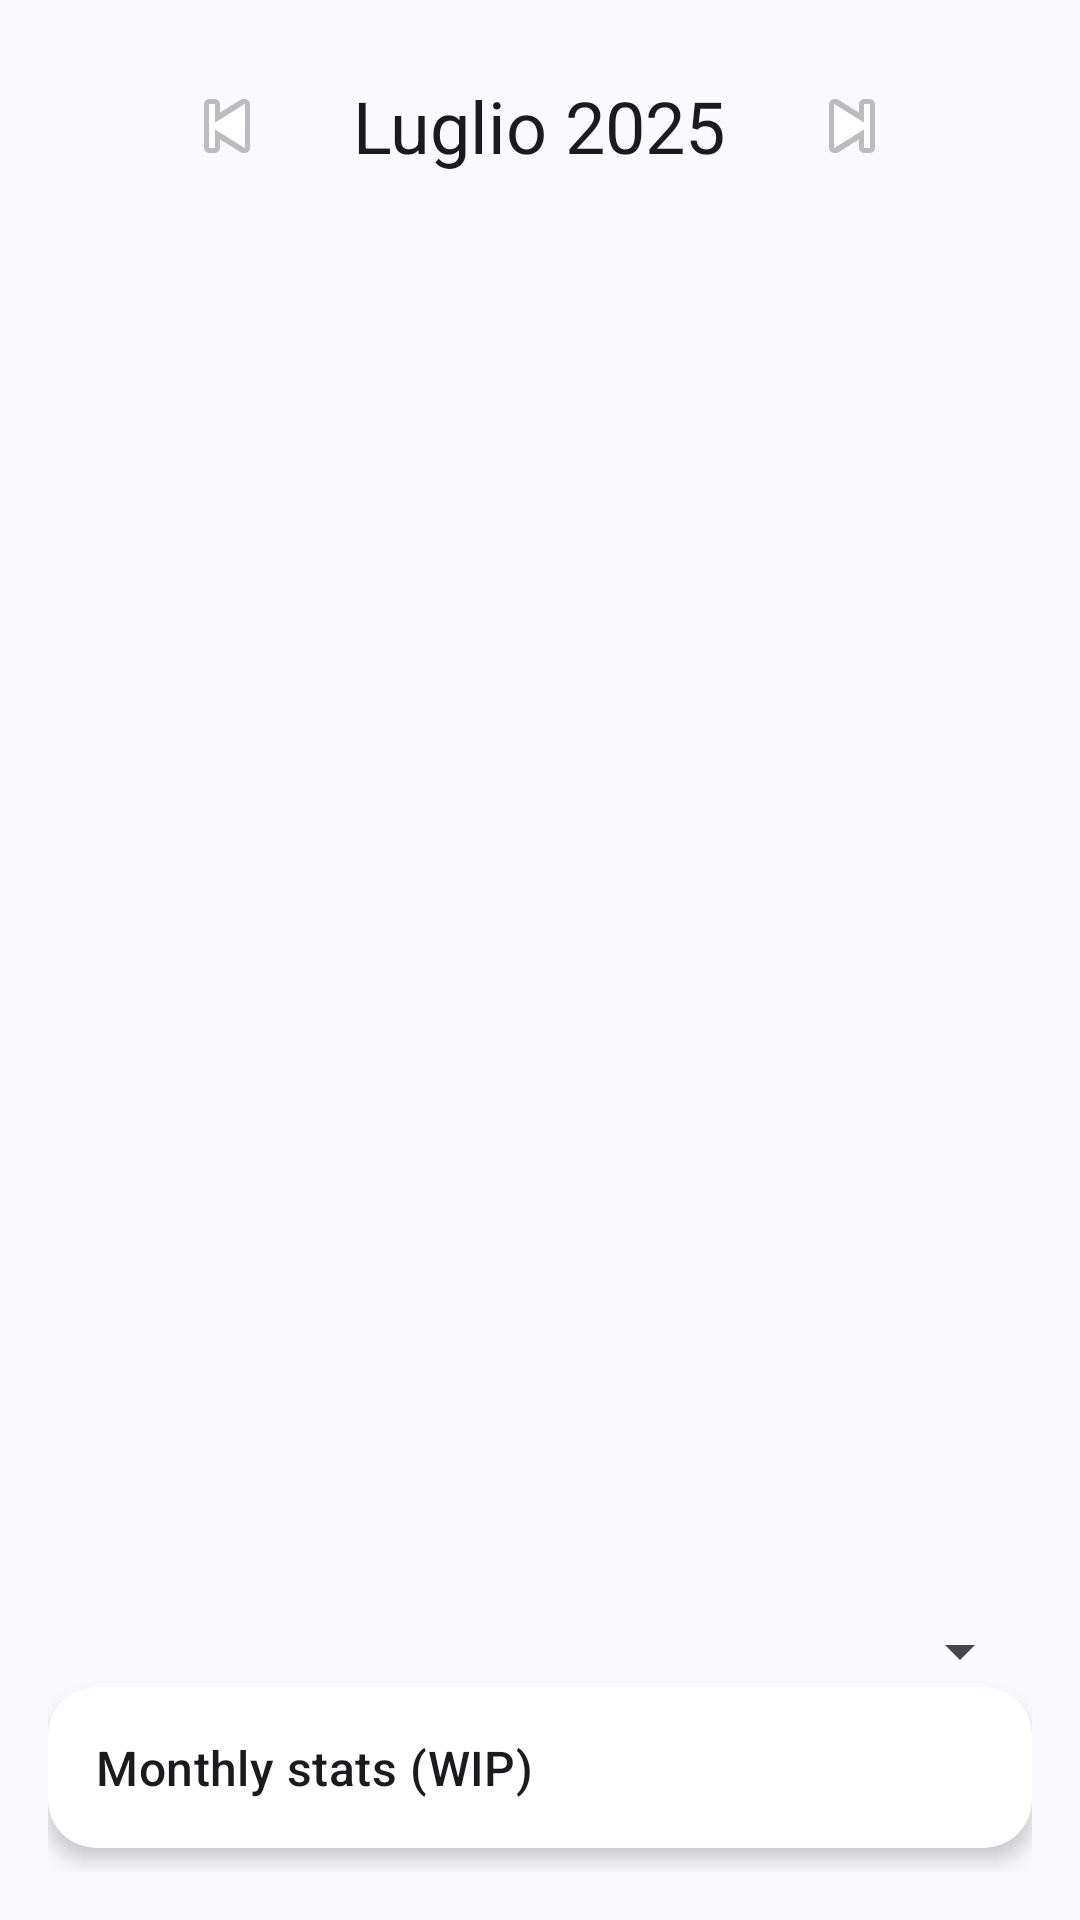

Screen size 1080 × 1920. Icon name, then its center in pixels as [x,y]:
Next month: [852,126]
Previous month: [227,126]
